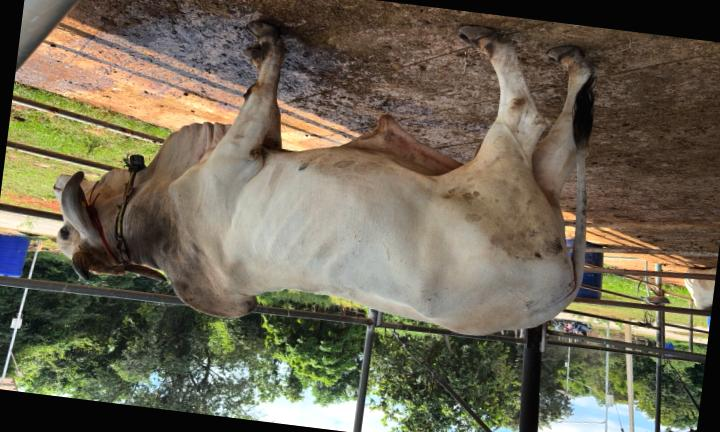Brahman: (55, 23, 595, 335)
